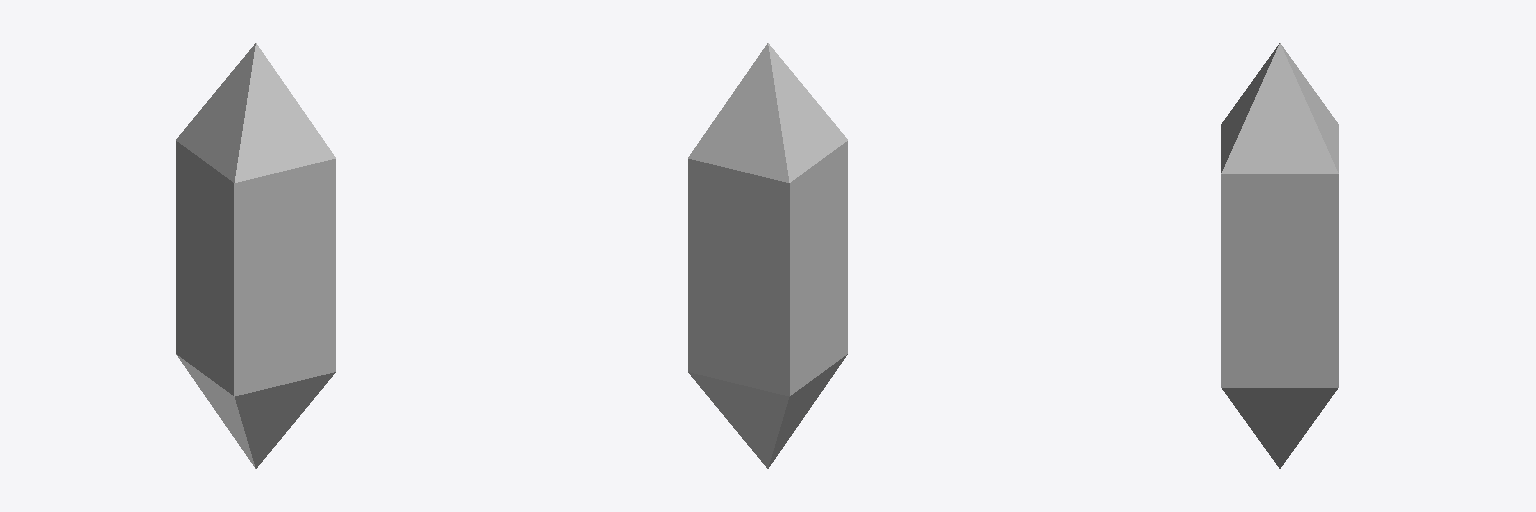
The model's file is crystal.obj.
The picture shows the model from 3 angles: view 1: azimuth 30°, elevation 25°; view 2: azimuth 150°, elevation 25°; view 3: azimuth 270°, elevation 25°; orthographic projection.
Bounding box in the file's own units: 0.125 × 0.5 × 0.125.